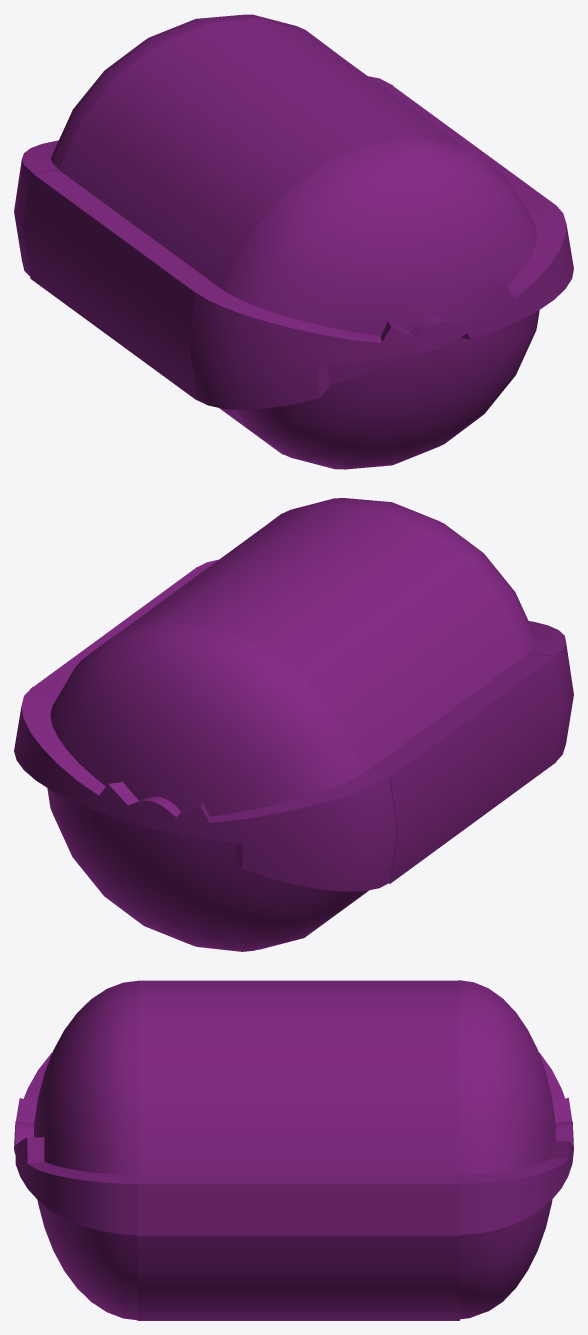
Rendered from CoughCapsuleFBX.fbx.
The picture shows the model from 3 angles, top to bottom: view 1: azimuth 30°, elevation 25°; view 2: azimuth 150°, elevation 25°; view 3: azimuth 270°, elevation 25°; orthographic projection. The views are drawn at different scales.
Parts seen in each view (by area): view 1: pSphere3; view 2: pSphere3; view 3: pSphere3.
Boxes of the visible parts, x1,y1,x2,y2 form: pSphere3: [14, 14, 573, 469]; pSphere3: [14, 498, 573, 951]; pSphere3: [14, 980, 573, 1320].
Size of the model in its own units: 99.38 by 80.47 by 132.
